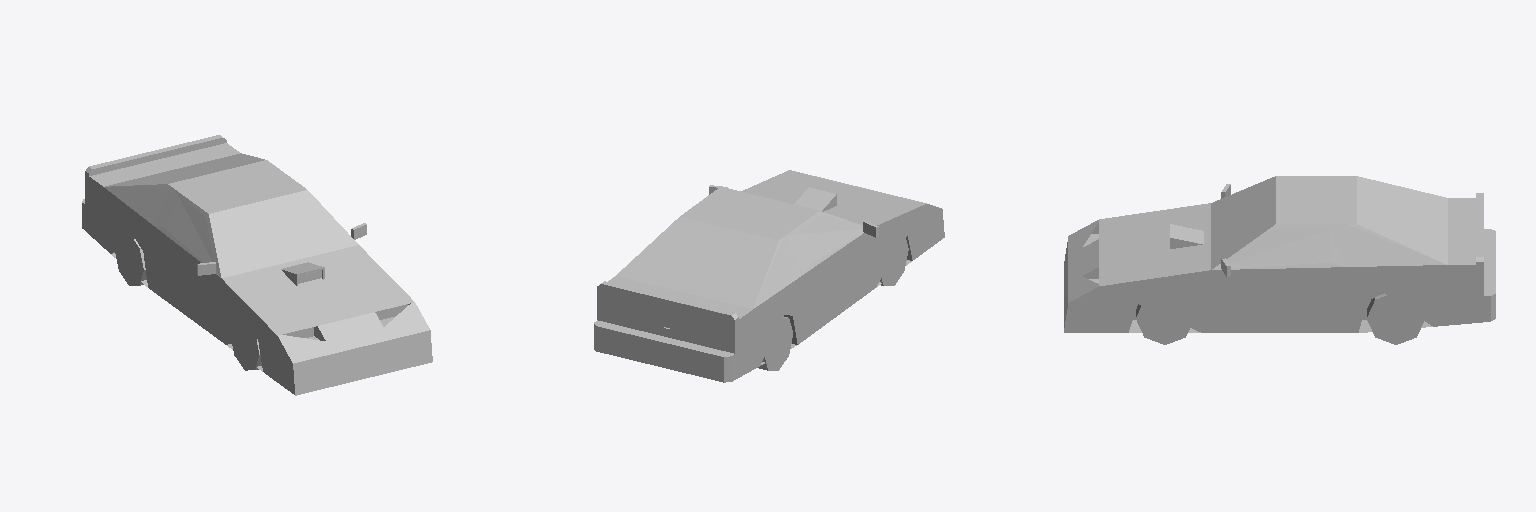
Rendered from Veh_Muscle_Car_03_White.obj.
3 renders of one model, left to right at view 1: azimuth 30°, elevation 25°; view 2: azimuth 150°, elevation 25°; view 3: azimuth 270°, elevation 25°, orthographic.
Bounding box in the file's own units: 1.24 × 0.7814 × 2.75.